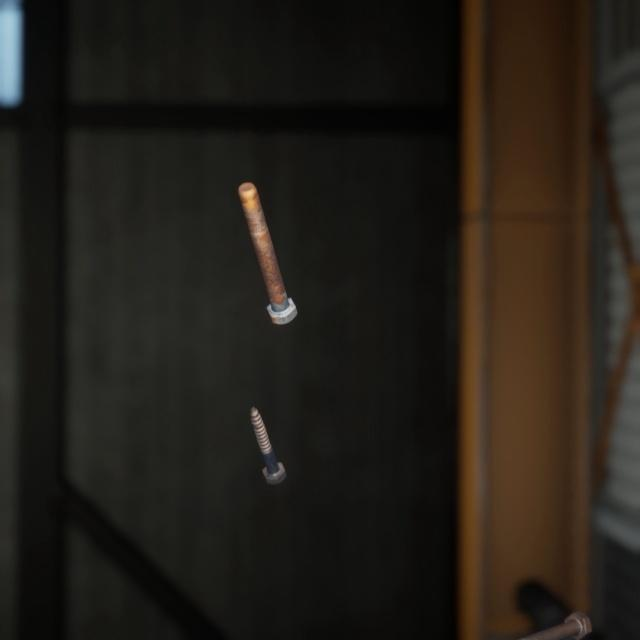bolt: (233, 160, 301, 312), (492, 583, 596, 639), (245, 381, 291, 468)
